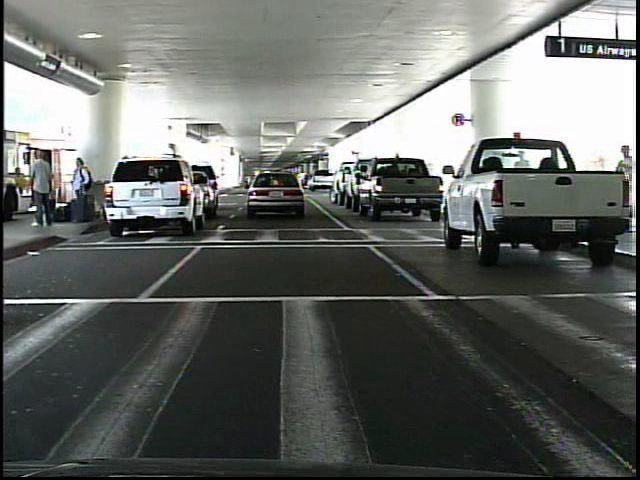person: (608, 141, 634, 233), (27, 149, 56, 228), (67, 156, 92, 226)
